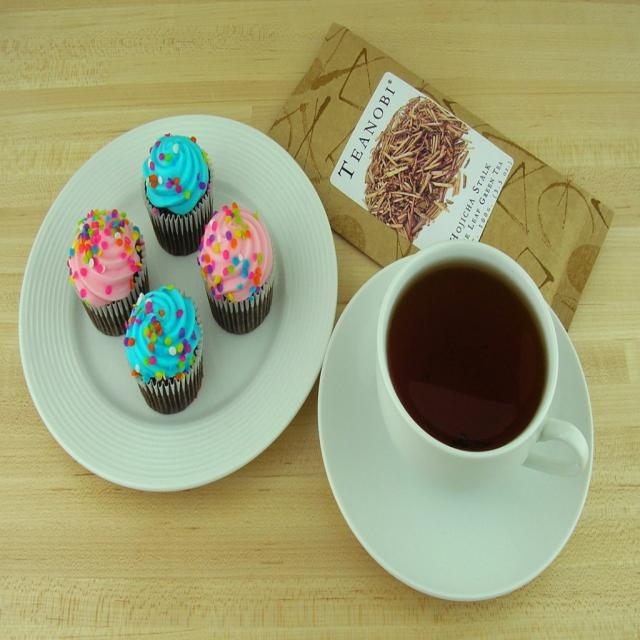Coffee: (388, 259, 543, 448)
Tea: (388, 257, 550, 448)
